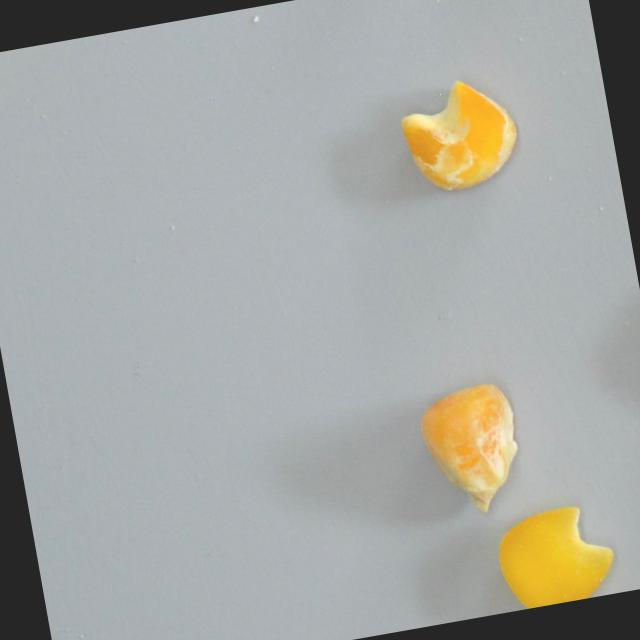dañado: (390, 68, 531, 203), (411, 375, 536, 524), (488, 497, 624, 612)
